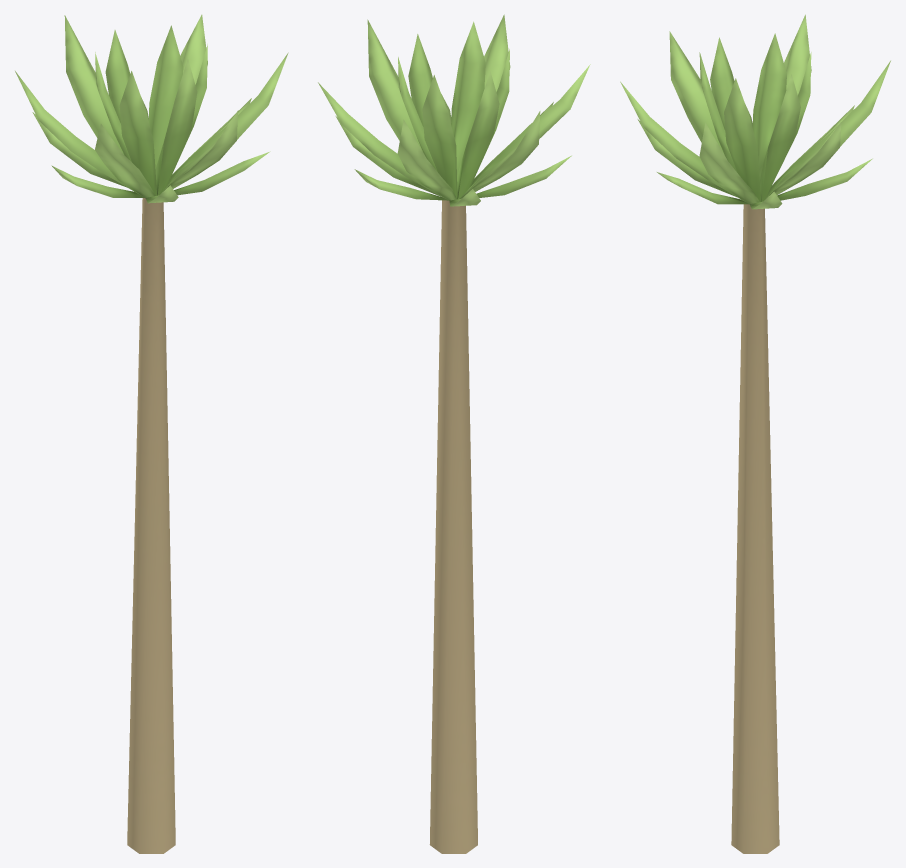
3 views of the same model, side by side, from view 1: azimuth 30°, elevation 25°; view 2: azimuth 150°, elevation 25°; view 3: azimuth 270°, elevation 25° (orthographic).
Parts seen in each view (by area): view 1: Palm2.001; view 2: Palm2.001; view 3: Palm2.001.
Boxes of the visible parts, x1,y1,x2,y2 form: Palm2.001: (15, 14, 288, 853); Palm2.001: (318, 14, 590, 853); Palm2.001: (620, 14, 890, 853).
Size of the model in its own units: 5.83 by 20.02 by 6.19.
1 material, 1 textured.
